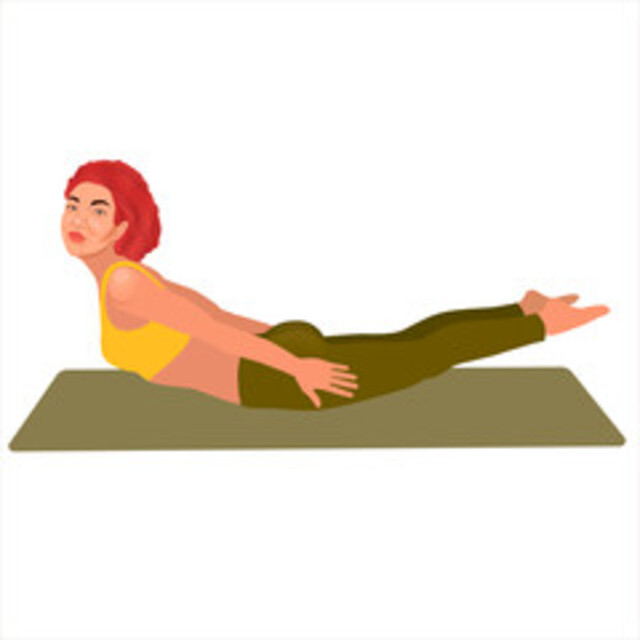Locust_Pose: (60, 157, 612, 410)
